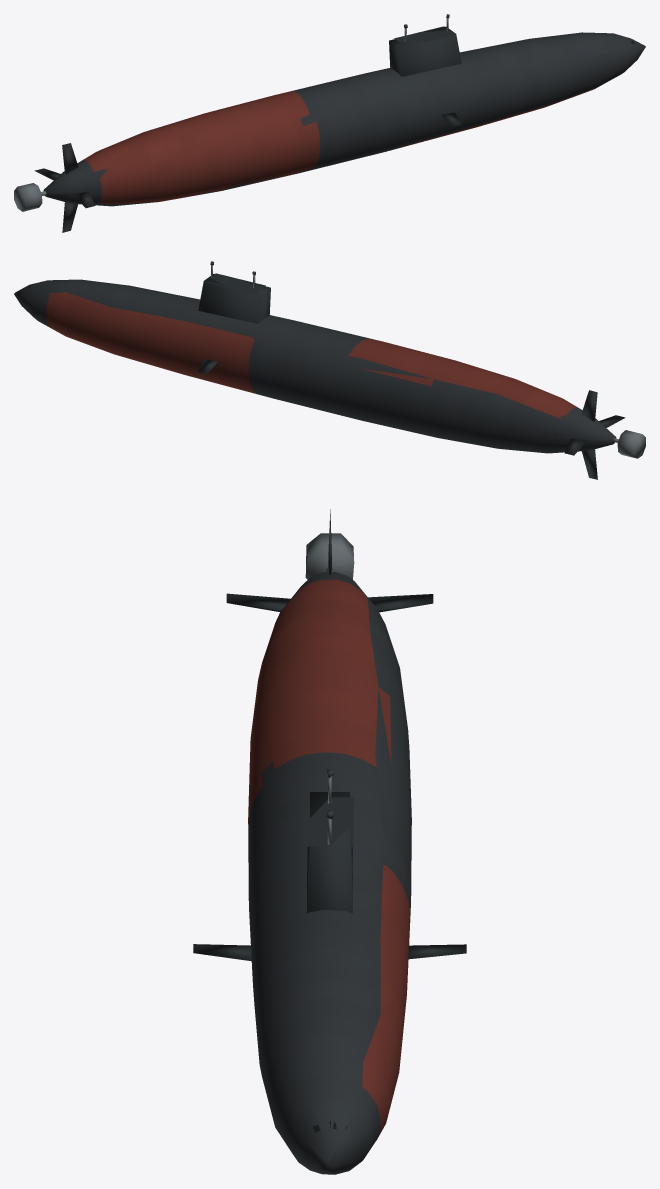
File: CN_SSN_Type095_LOD3.fbx
3 renders of one model, top to bottom at view 1: azimuth 30°, elevation 25°; view 2: azimuth 150°, elevation 25°; view 3: azimuth 270°, elevation 25°, orthographic. The views are drawn at different scales.
Parts seen in each view (by area): view 1: CN_SSN_Type095_LOD3; view 2: CN_SSN_Type095_LOD3; view 3: CN_SSN_Type095_LOD3.
Boxes of the visible parts, left/top/right/bottom form: CN_SSN_Type095_LOD3: left=14, top=14, right=645, bottom=232; CN_SSN_Type095_LOD3: left=14, top=261, right=645, bottom=479; CN_SSN_Type095_LOD3: left=193, top=509, right=466, bottom=1174.
Bounding box in the file's own units: 115 × 21.66 × 21.71.
6 materials, 1 textured.
